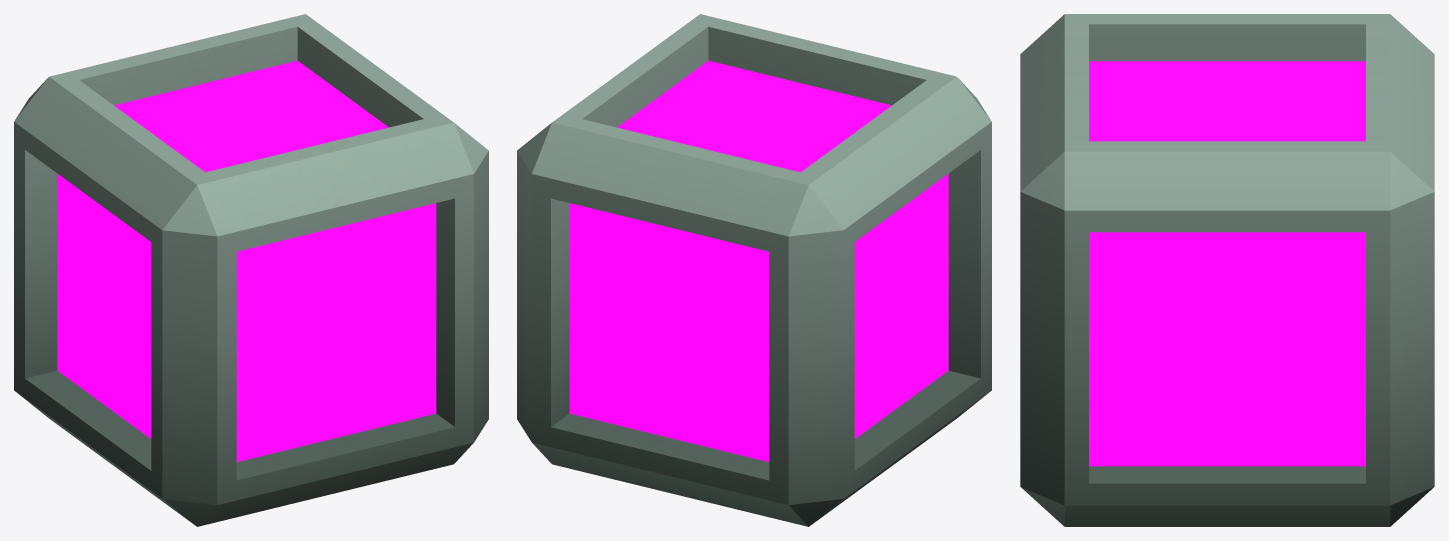
The model's file is item_015.fbx.
3 renders of one model, left to right at view 1: azimuth 30°, elevation 25°; view 2: azimuth 150°, elevation 25°; view 3: azimuth 270°, elevation 25°, orthographic. The views are drawn at different scales.
Visible parts, largest first — view 1: item.015; view 2: item.015; view 3: item.015.
Boxes of the visible parts, x1,y1,x2,y2 form: item.015: [14, 14, 488, 526]; item.015: [517, 14, 991, 526]; item.015: [1020, 14, 1434, 526].
Size of the model in its own units: 147 by 147 by 147.
